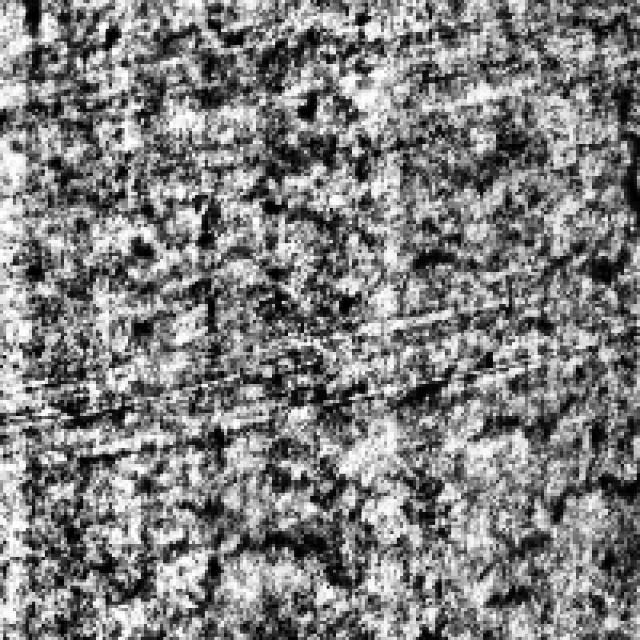Pitted_Surface: (211, 227, 637, 432)
